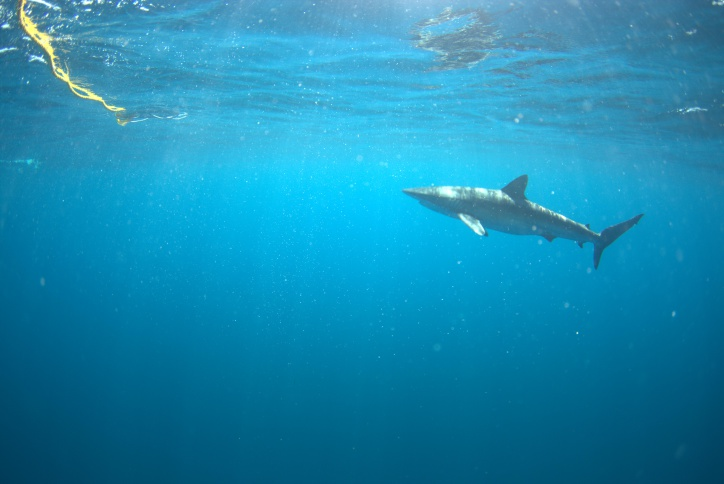Sedoso: (367, 159, 649, 282)
